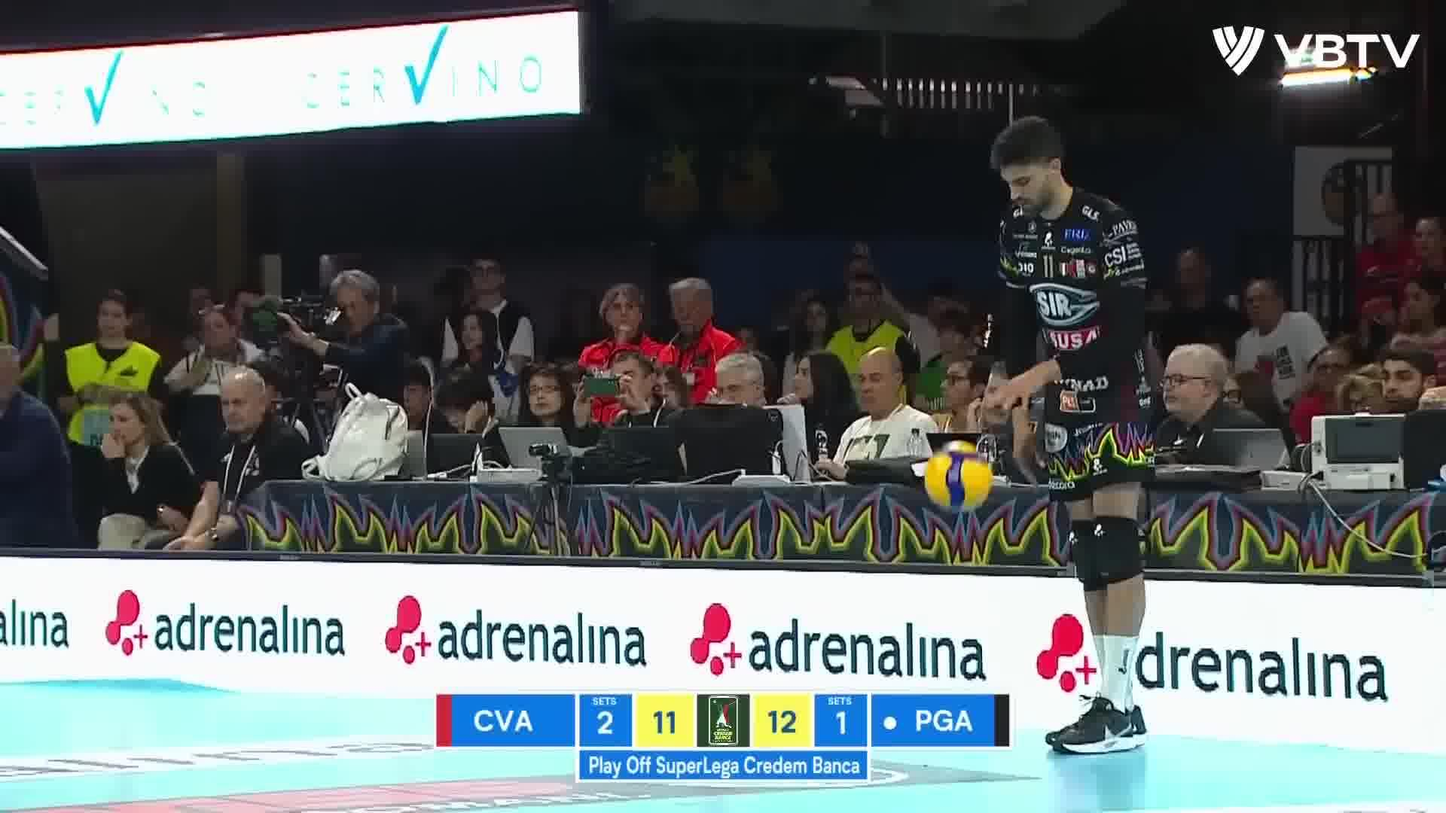balls: (925, 440, 992, 517)
